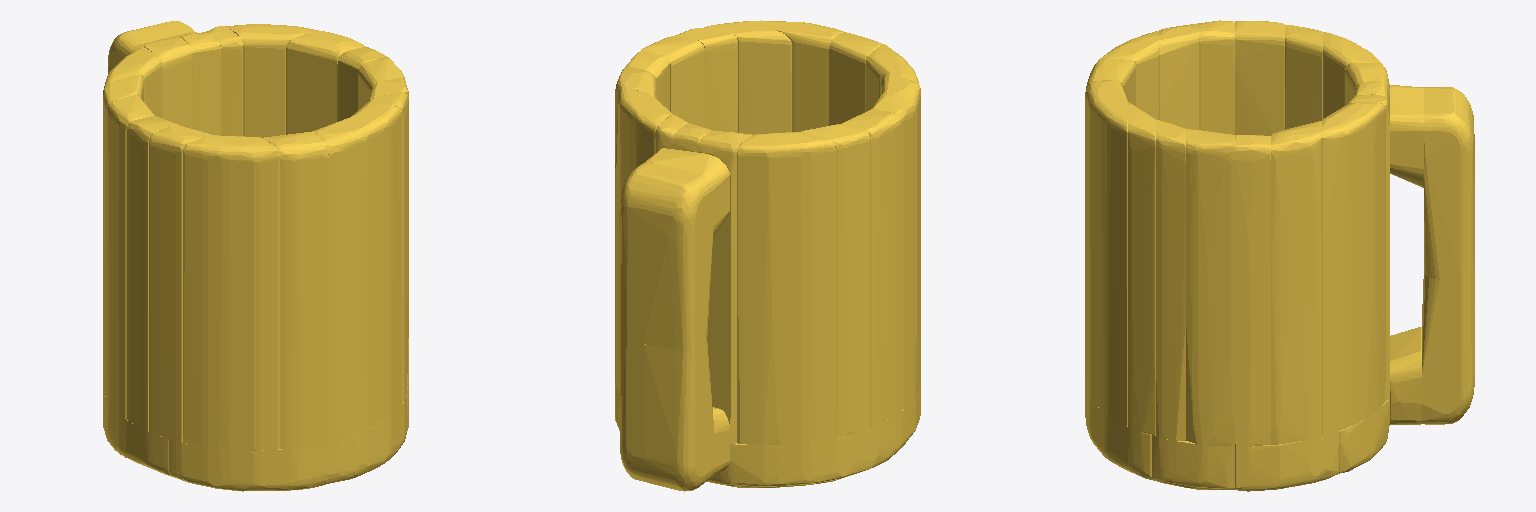
The robot description file, URDF, robot "860.urdf":
<?xml version="1.0" ?>
<robot name="860.urdf">
	<link name="baseLink">
		<inertial>
			<origin rpy="0 0 0" xyz="0 0 0"/>
				<mass value="0.1"/>
				<inertia ixx="6e-5" ixy="0" ixz="0" iyy="6e-5" iyz="0" izz="6e-5"/>
		</inertial>
		<visual>
			<origin rpy="0 0 0" xyz="0 0 0"/>
			<geometry>
				<mesh filename="19_decom_wt.obj" scale="1.04 1.04 1.16"/>
			</geometry>
			<material name="yellow">
				<color rgba="0.98 0.84 0.35 1"/>
			</material>
		</visual>
		<collision>
			<origin rpy="0 0 0" xyz="0 0 0"/>
			<geometry>
				<mesh filename="19_decom_wt.obj" scale="1.04 1.04 1.16"/>
			</geometry>
		</collision>
	</link>
</robot>

--- Render facts (derived) ---
Views: 3 orthographic renders of the robot side by side, from view 1: azimuth 30°, elevation 25°; view 2: azimuth 150°, elevation 25°; view 3: azimuth 270°, elevation 25°.
Model 860.urdf with 1 links and 0 joints (none), rooted at baseLink, posed all joints at 0.
Visible links, largest first — view 1: baseLink; view 2: baseLink; view 3: baseLink.
Link boxes in pixels (x1,y1,x2,y2): baseLink: (103,21,408,491); baseLink: (615,20,920,491); baseLink: (1085,20,1474,491).
Bounding box of the posed robot: 0.0894 × 0.1133 × 0.112 m (x, y, z).
1 mesh visuals loaded from 1 distinct referenced files (1 OBJ).